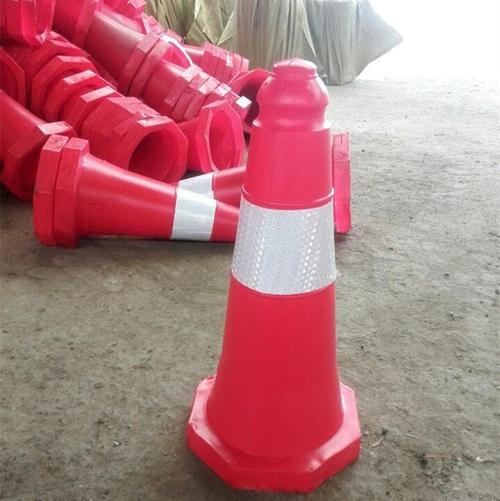cone_barrel: (190, 61, 364, 483), (36, 143, 236, 250)
